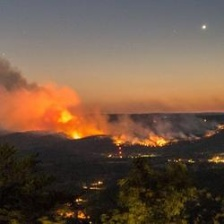fire: (56, 109, 86, 142), (113, 134, 168, 148)
smoke: (5, 61, 56, 127)
